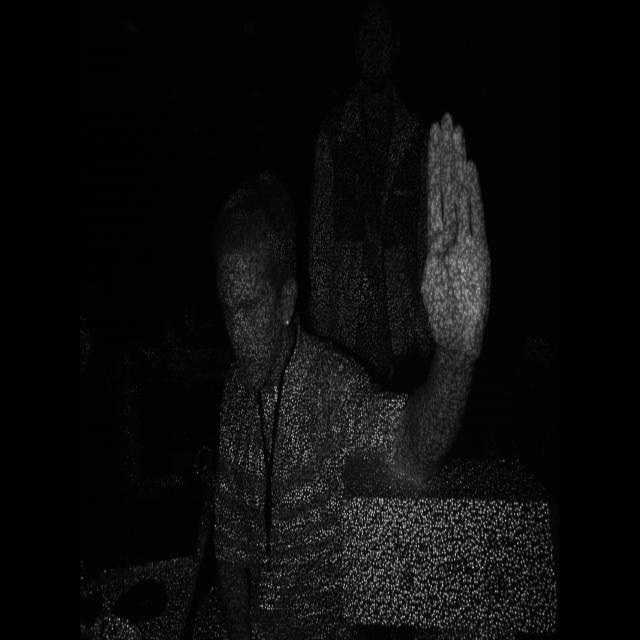B: (411, 101, 500, 369)
